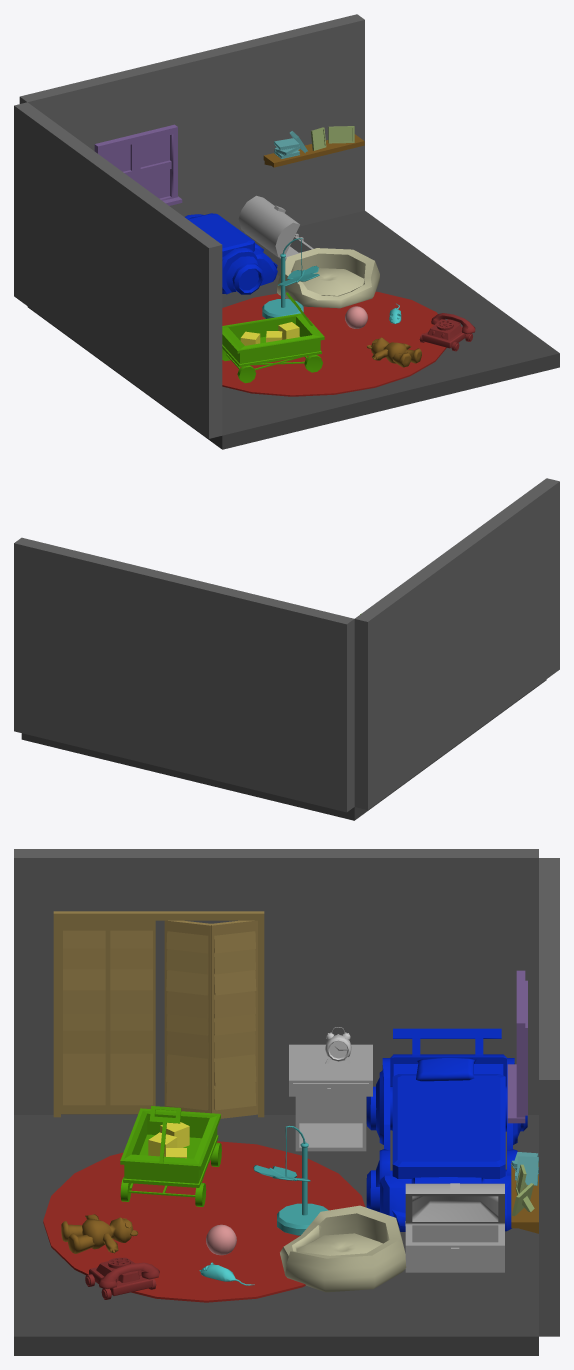
File: Childs Room.fbx
3 views of the same model, one above another, from view 1: azimuth 30°, elevation 25°; view 2: azimuth 150°, elevation 25°; view 3: azimuth 270°, elevation 25° (orthographic). The views are drawn at different scales.
Visible parts, largest first — view 1: Diorama_Set1, Rug_Mesh, Cat_Bed_Mesh, Wagon_Mesh1, pCube37, Racecar_Bed_Mesh, Chest_Mesh, Toy_Phone_Mesh, Butterfly_Toy_Mesh, Teddy_Bear_Mesh, Shelf_Mesh; view 2: Diorama_Set1; view 3: Diorama_Set1, Closet_Doors_Mesh, Rug_Mesh, Racecar_Bed_Mesh, Chest_Mesh, Cat_Bed_Mesh, Child_Dresser_Mesh, Wagon_Mesh1, pCube37, Toy_Phone_Mesh, Butterfly_Toy_Mesh, Teddy_Bear_Mesh (+3 smaller).
Boxes of the visible parts, x1,y1,x2,y2 form: Diorama_Set1: (14, 14, 559, 449); Rug_Mesh: (222, 291, 446, 396); Cat_Bed_Mesh: (277, 248, 379, 308); Wagon_Mesh1: (222, 292, 324, 383); pCube37: (94, 124, 182, 205); Racecar_Bed_Mesh: (185, 213, 277, 294); Chest_Mesh: (238, 195, 313, 276); Toy_Phone_Mesh: (419, 313, 475, 351); Butterfly_Toy_Mesh: (262, 238, 319, 318); Teddy_Bear_Mesh: (367, 337, 421, 367); Shelf_Mesh: (263, 134, 364, 167); Diorama_Set1: (14, 478, 559, 820); Diorama_Set1: (14, 849, 559, 1355); Closet_Doors_Mesh: (53, 911, 264, 1118); Rug_Mesh: (43, 1141, 365, 1302); Racecar_Bed_Mesh: (366, 1028, 527, 1231); Chest_Mesh: (405, 1183, 504, 1272); Cat_Bed_Mesh: (280, 1205, 406, 1292); Child_Dresser_Mesh: (289, 1044, 372, 1151); Wagon_Mesh1: (120, 1106, 221, 1206); pCube37: (507, 970, 527, 1123); Toy_Phone_Mesh: (85, 1257, 159, 1299); Butterfly_Toy_Mesh: (253, 1125, 328, 1235); Teddy_Bear_Mesh: (61, 1214, 138, 1253).
Size of the model in its own units: 26 by 14.5 by 26.
